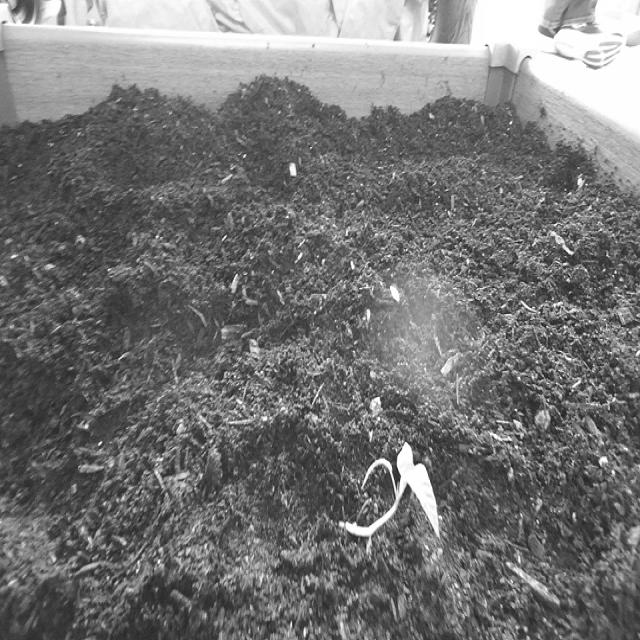Healthy: (334, 437, 442, 548)
